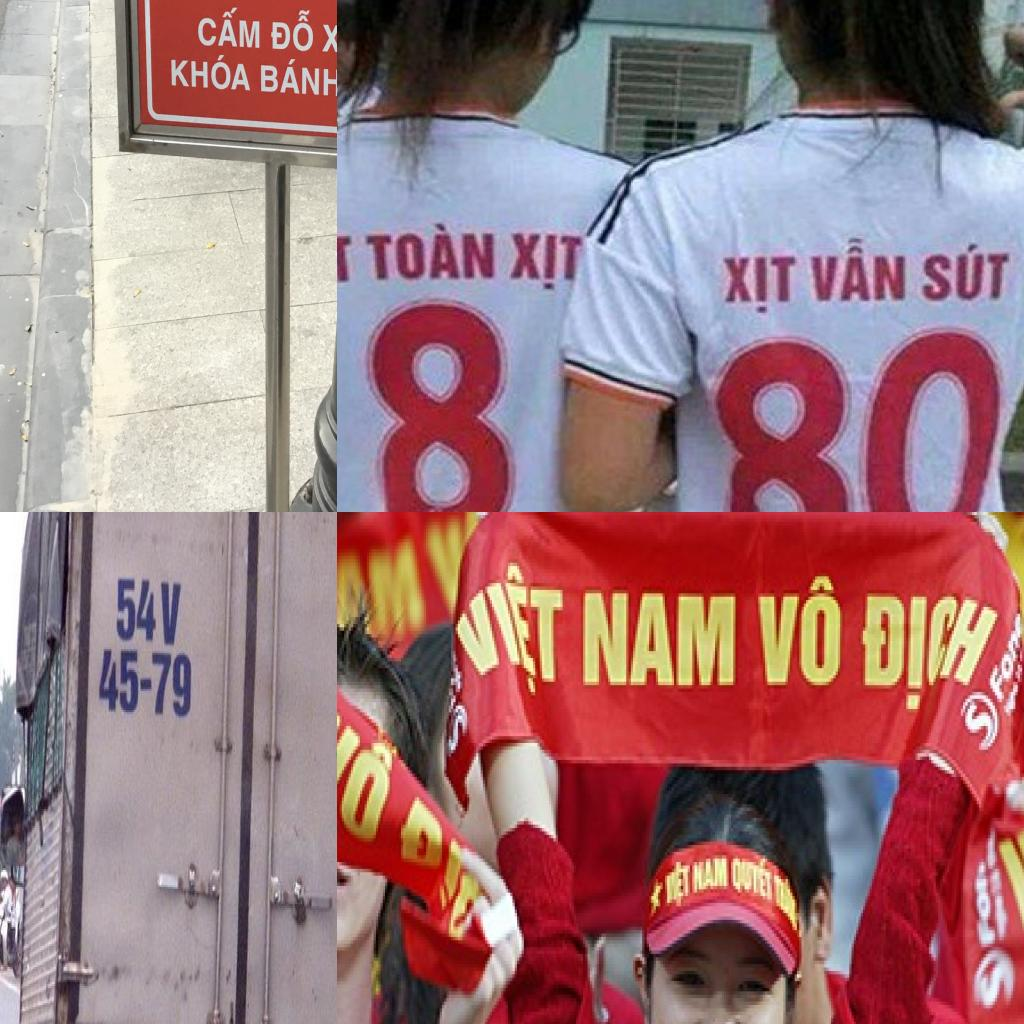text: (357, 295, 525, 512), (842, 326, 1012, 512), (700, 328, 860, 512), (449, 532, 569, 712), (854, 590, 1004, 726), (578, 586, 747, 692), (751, 569, 847, 699), (337, 539, 430, 648), (337, 699, 403, 852), (392, 794, 471, 917), (359, 221, 499, 283), (804, 234, 912, 306), (919, 239, 1014, 307), (428, 512, 482, 613), (506, 228, 585, 294), (719, 254, 799, 316), (986, 606, 1024, 712), (170, 51, 253, 96), (970, 950, 1020, 1018), (114, 573, 160, 645), (259, 56, 337, 97), (196, 4, 262, 50), (98, 644, 139, 718), (151, 649, 193, 720), (729, 848, 774, 910), (963, 688, 1002, 756), (970, 855, 997, 951), (268, 8, 315, 53), (663, 852, 692, 913), (695, 856, 733, 900), (160, 579, 183, 651), (444, 706, 472, 764), (337, 219, 357, 288), (321, 24, 337, 54)
